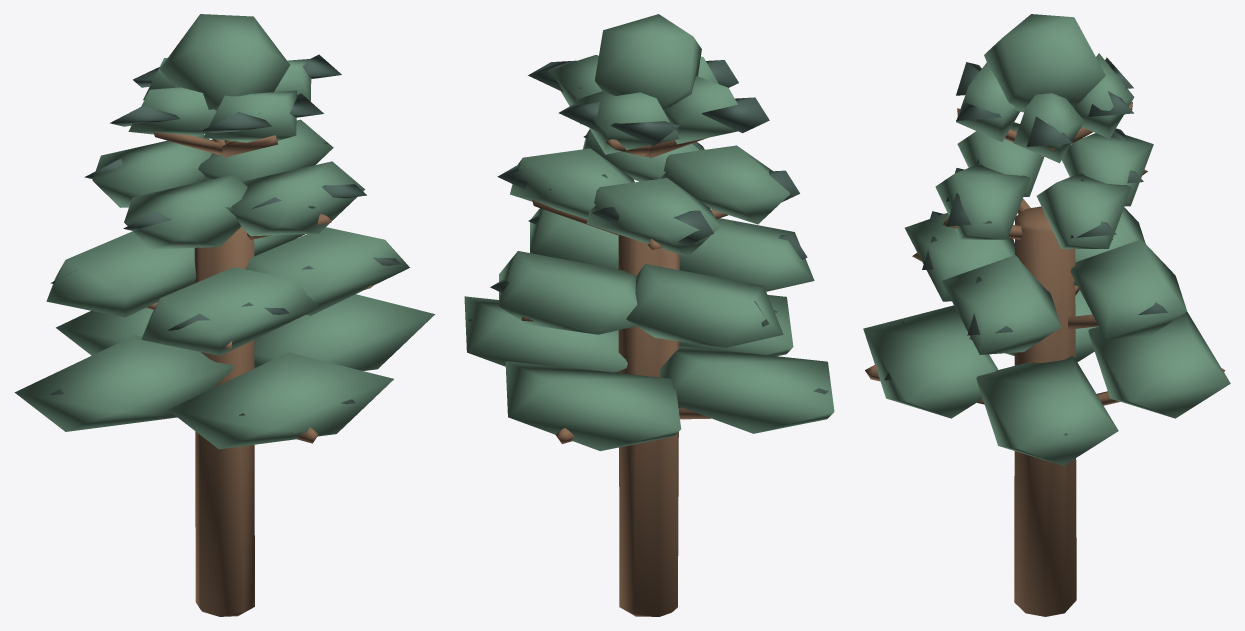
Rendered from org_archaeopteris.glb.
The picture shows the model from 3 angles, left to right: view 1: azimuth 30°, elevation 25°; view 2: azimuth 150°, elevation 25°; view 3: azimuth 270°, elevation 25°; orthographic projection.
Visible parts, largest first — view 1: Foliage, Trunk; view 2: Foliage, Trunk; view 3: Foliage, Trunk.
Part boxes in pixels (x1,y1,x2,y2): Foliage: (14, 14, 435, 449); Trunk: (146, 132, 373, 616); Foliage: (464, 14, 834, 451); Trunk: (521, 138, 728, 616); Foliage: (863, 14, 1230, 465); Trunk: (865, 102, 1225, 616).
Size of the model in its own units: 1.56 by 2.2 by 1.26.
